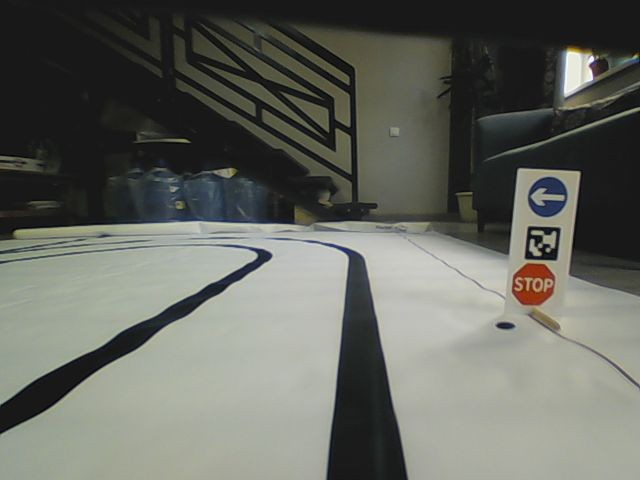Stop: (508, 263, 555, 305)
